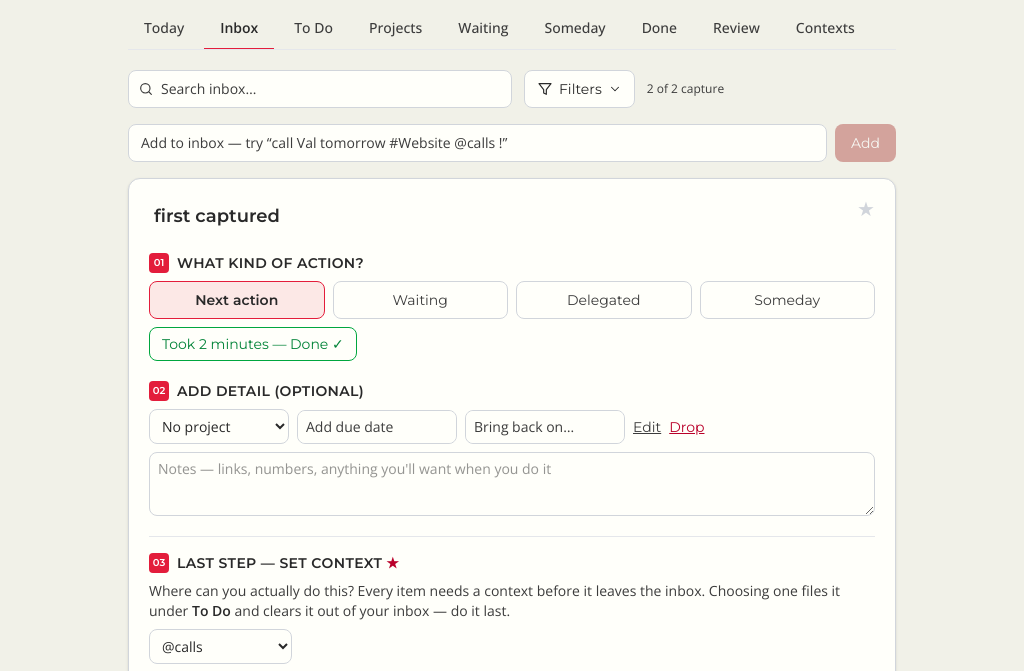
Test case: InboxPage — undoing a filing (#231) › gives the restored item a working card even when the undo outran the refetch
Step 1. Select "@calls" in the dropdown named "Set context and file this todo" → (220, 646), box [149,629,292,664]
(page scrolled)
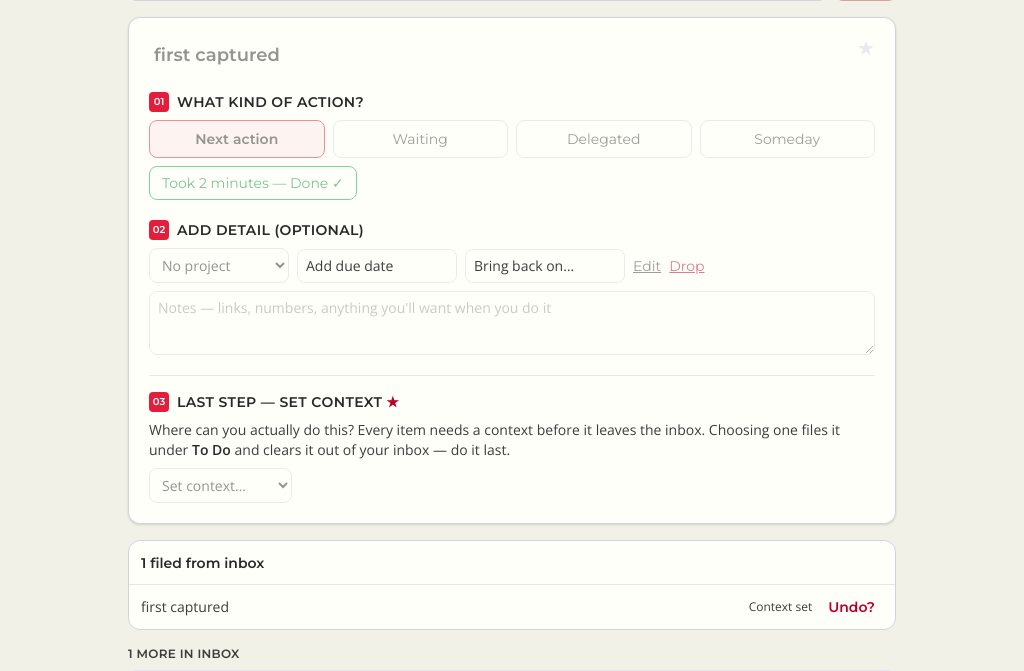
Expected: the dropdown named "Set context and file this todo" is disabled, [149,468,292,503]
Step 2. Click the button with aria-label "Undo filing “first captured”" → (852, 607), box [820,593,883,621]
(page scrolled)
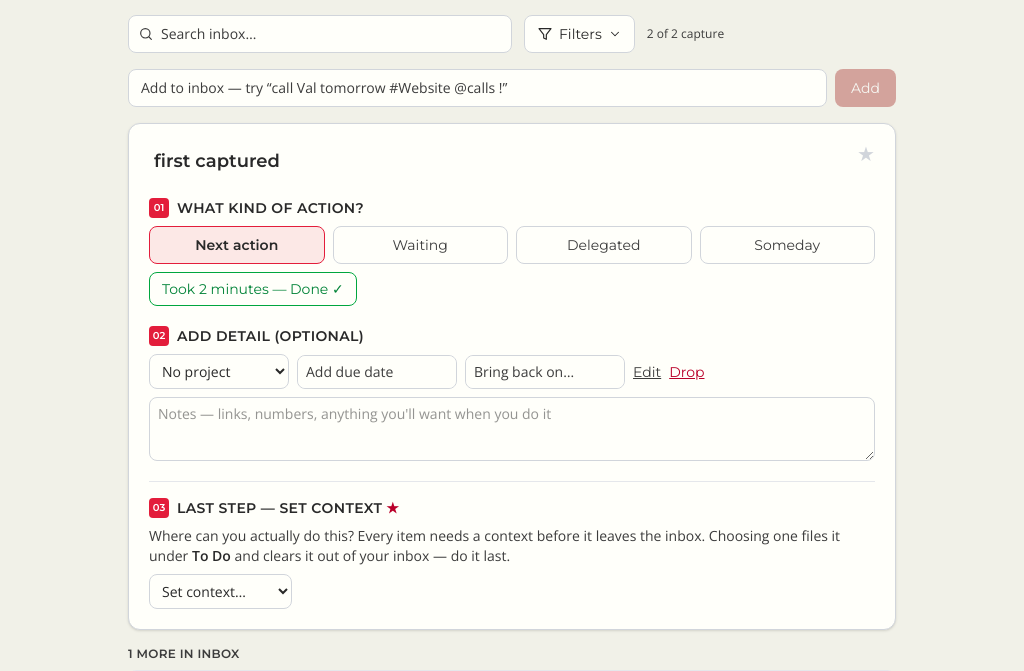
Expected: the button titled "Click to rename" reads "first captured", [149,144,285,178]
Expected: the dropdown named "Set context and file this todo" is enabled, [149,574,292,609]
